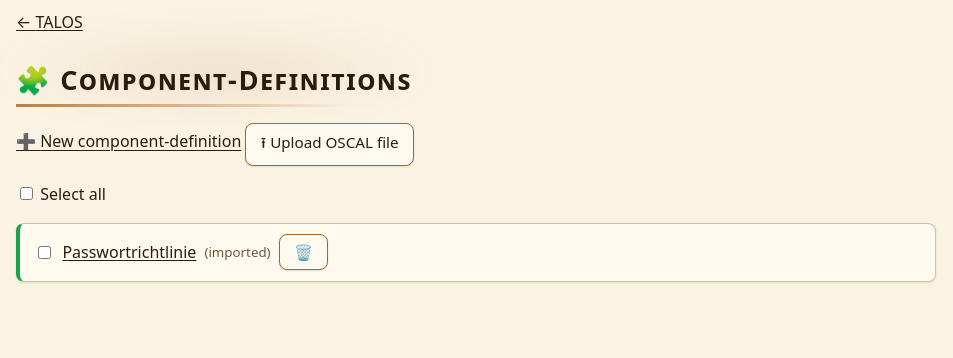
Test: bulk selection (ADR-0027) › delete-selected asks for confirmation and removes the selected items on confirm
Click the checkbox with test id "compdef-select-item". click: x=45, y=252
box: [38, 246, 51, 259]
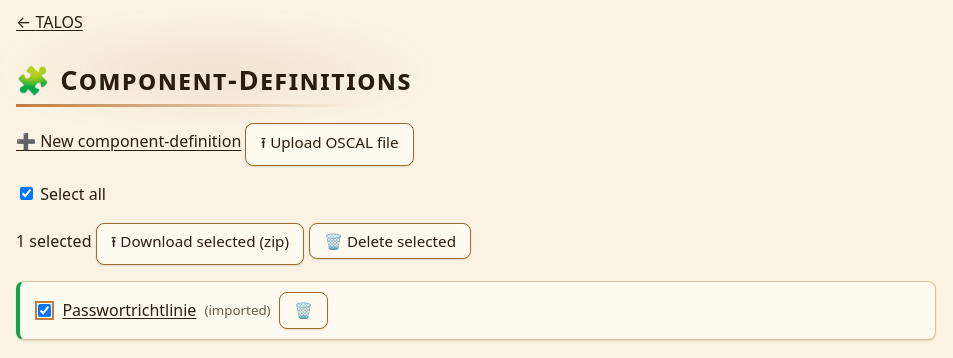
Click the button with test id "compdef-delete-selected". click: x=390, y=241
box: [309, 222, 471, 259]
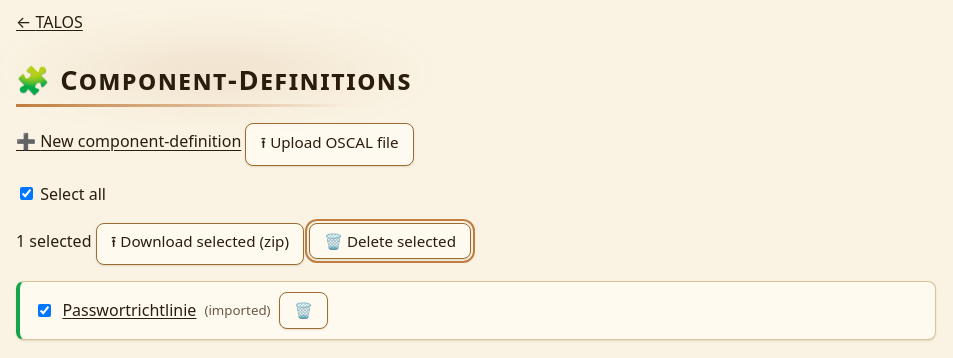
Click the button with test id "compdef-delete-selected". click: x=390, y=241
box: [309, 222, 471, 259]
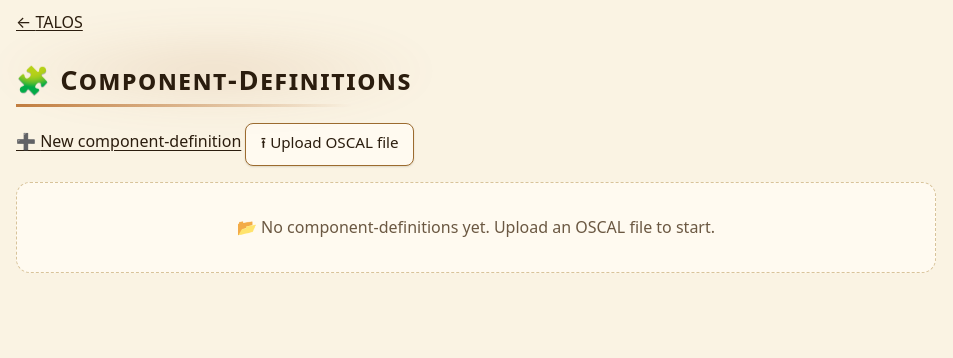
Check: the element with test id "compdef-bulk-actions" is gone
